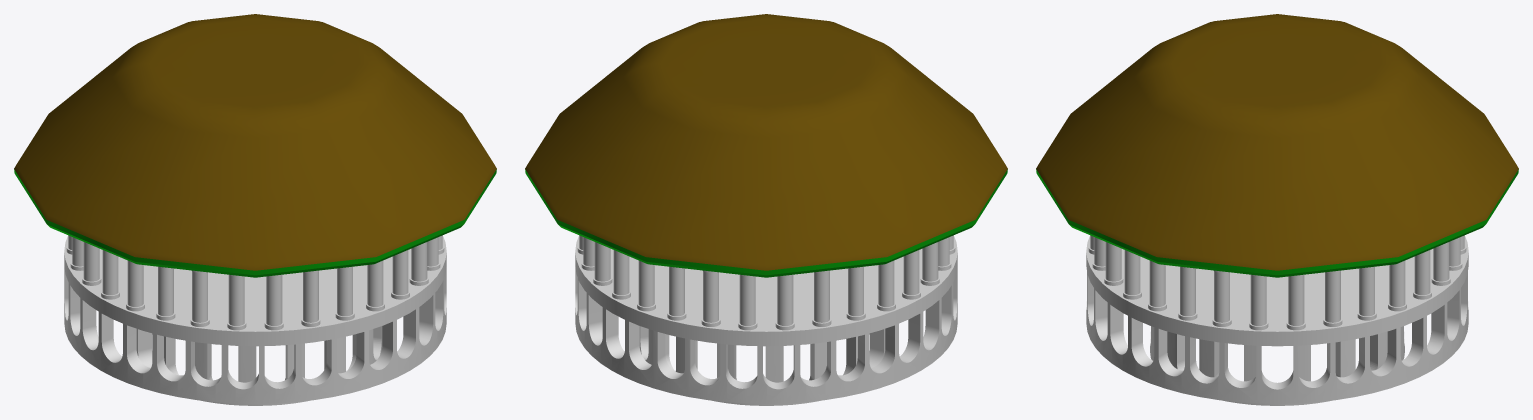
Rendered from floatingmarblebuilding (1).fbx.
3 renders of one model, left to right at view 1: azimuth 30°, elevation 25°; view 2: azimuth 150°, elevation 25°; view 3: azimuth 270°, elevation 25°, orthographic.
Parts seen in each view (by area): view 1: pCone1, pasted__pCylinder27; view 2: pCone1, pasted__pCylinder27; view 3: pCone1, pasted__pCylinder27.
Part boxes in pixels (x1,y1,x2,y2): pCone1: (14,14,496,277); pasted__pCylinder27: (64,235,446,405); pCone1: (525,14,1007,277); pasted__pCylinder27: (575,235,957,405); pCone1: (1036,14,1518,277); pasted__pCylinder27: (1086,235,1468,405).
Bounding box in the file's own units: 7.58 × 5 × 7.58.
